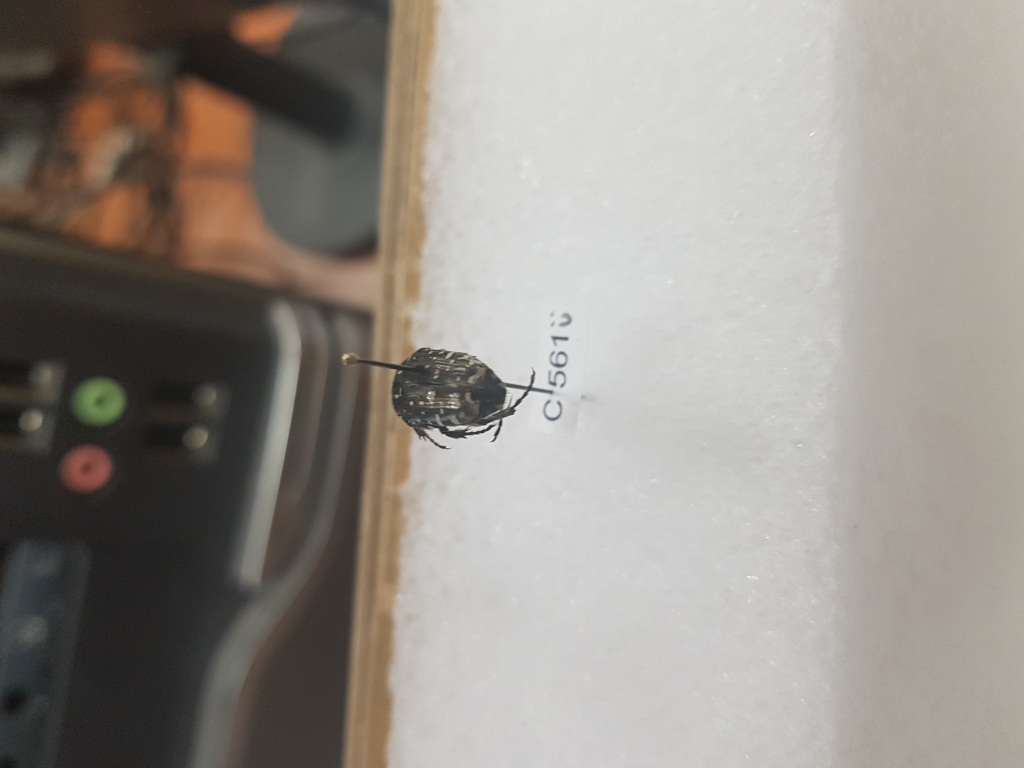Oxythyrea_funesta: (389, 348, 542, 454)
